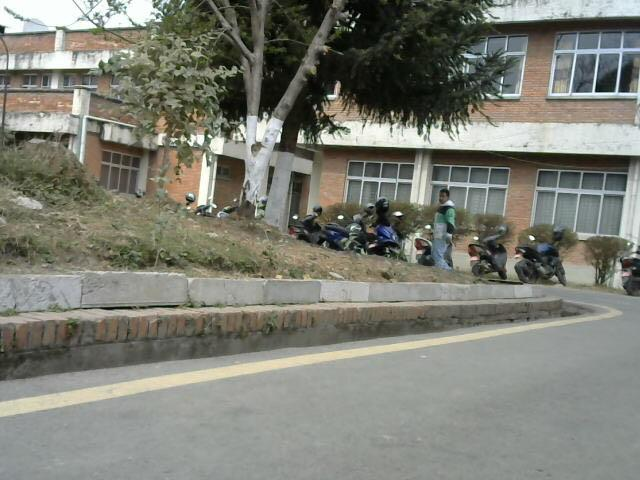Motorcycle: (472, 229, 584, 294), (304, 197, 406, 256)
Person: (431, 176, 452, 277)
Tree: (0, 319, 640, 480), (129, 0, 497, 175)
